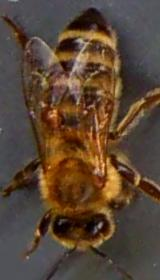varroa_mite: (37, 104, 68, 132)
